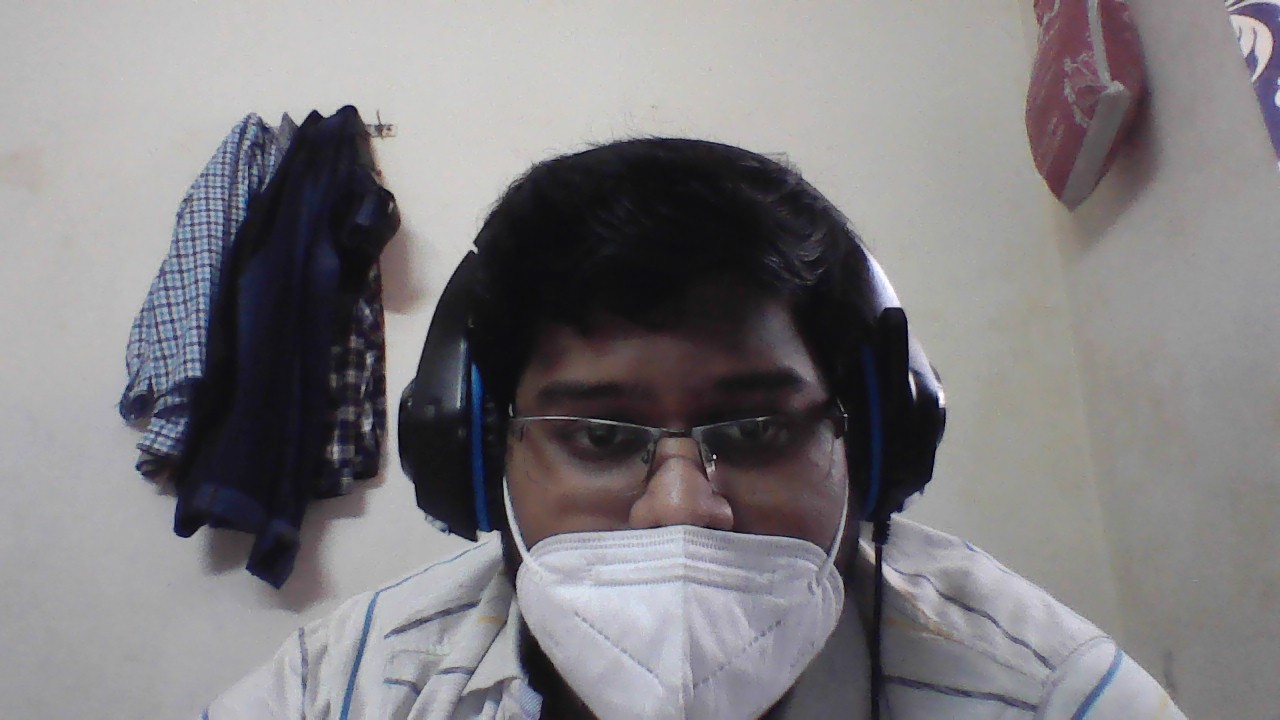NoMask: (502, 451, 894, 690)
